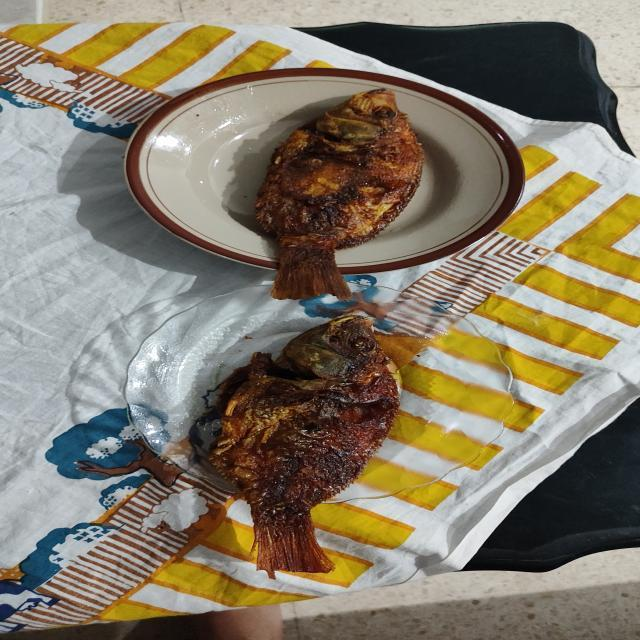ikan_mujair: (208, 315, 400, 579), (255, 88, 424, 300)
